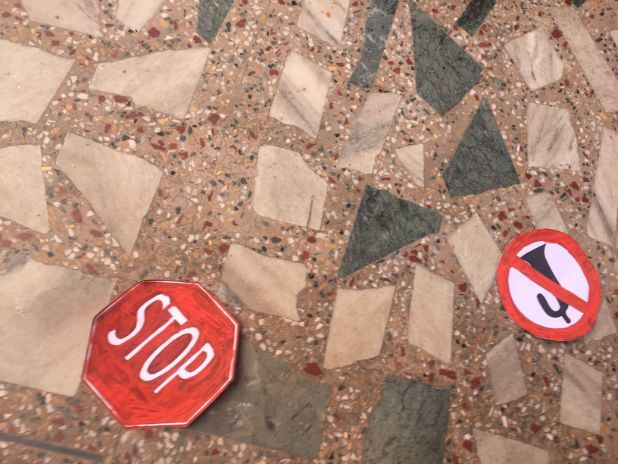no-horn: (498, 231, 602, 340)
stop: (84, 279, 236, 427)
